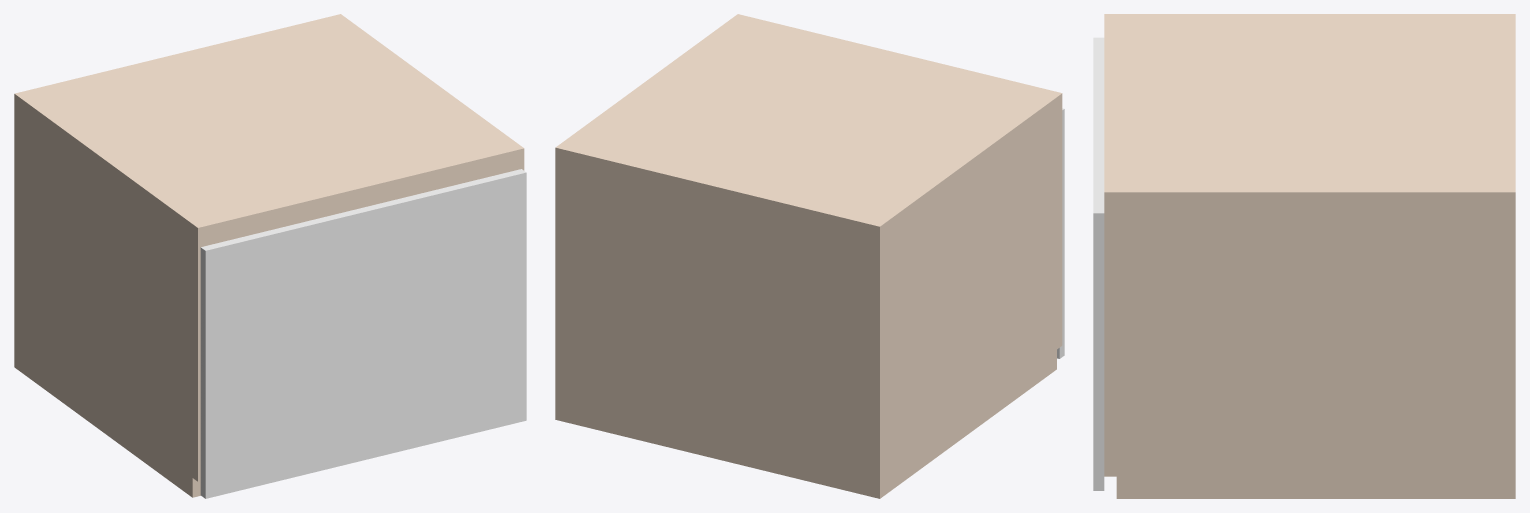
File: KTCH_ELIX_Cabinet_60_60_50.FBX
3 renders of one model, left to right at view 1: azimuth 30°, elevation 25°; view 2: azimuth 150°, elevation 25°; view 3: azimuth 270°, elevation 25°, orthographic. The views are drawn at different scales.
Parts seen in each view (by area): view 1: KTCH_ELIX_Cabinet_60_60_50; view 2: KTCH_ELIX_Cabinet_60_60_50; view 3: KTCH_ELIX_Cabinet_60_60_50.
Part boxes in pixels (x1,y1,x2,y2): KTCH_ELIX_Cabinet_60_60_50: (14,14,526,498); KTCH_ELIX_Cabinet_60_60_50: (555,14,1064,498); KTCH_ELIX_Cabinet_60_60_50: (1093,14,1515,498).
Size of the model in its own units: 60 by 60 by 48.08.
